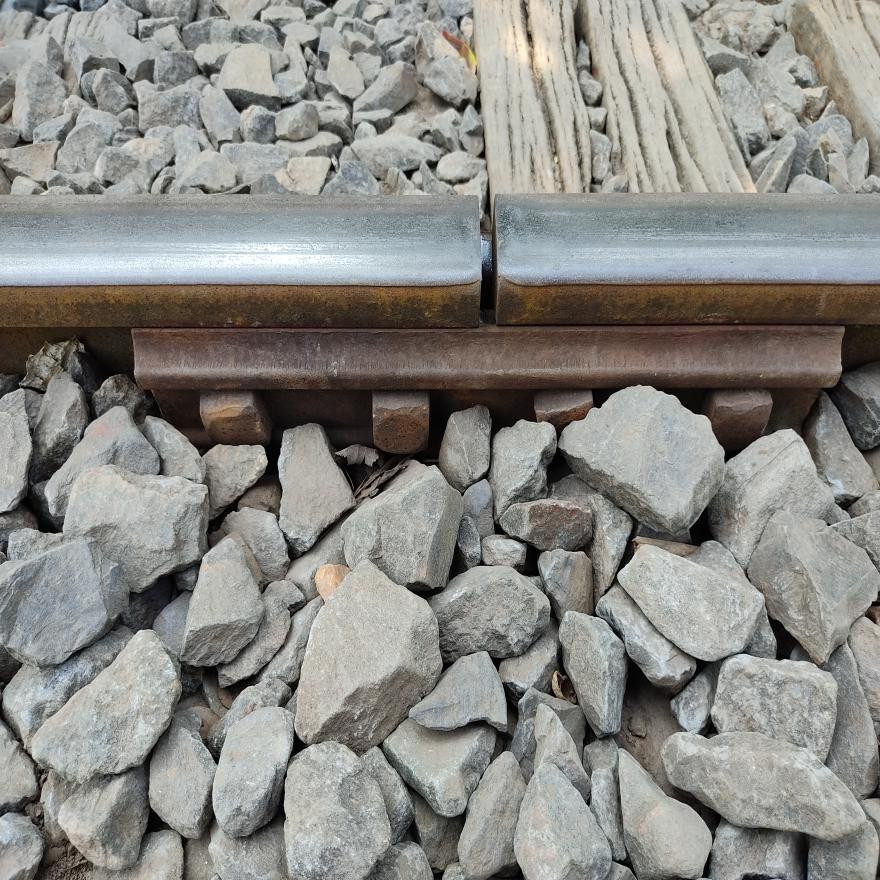railway-gap: (418, 166, 556, 352)
